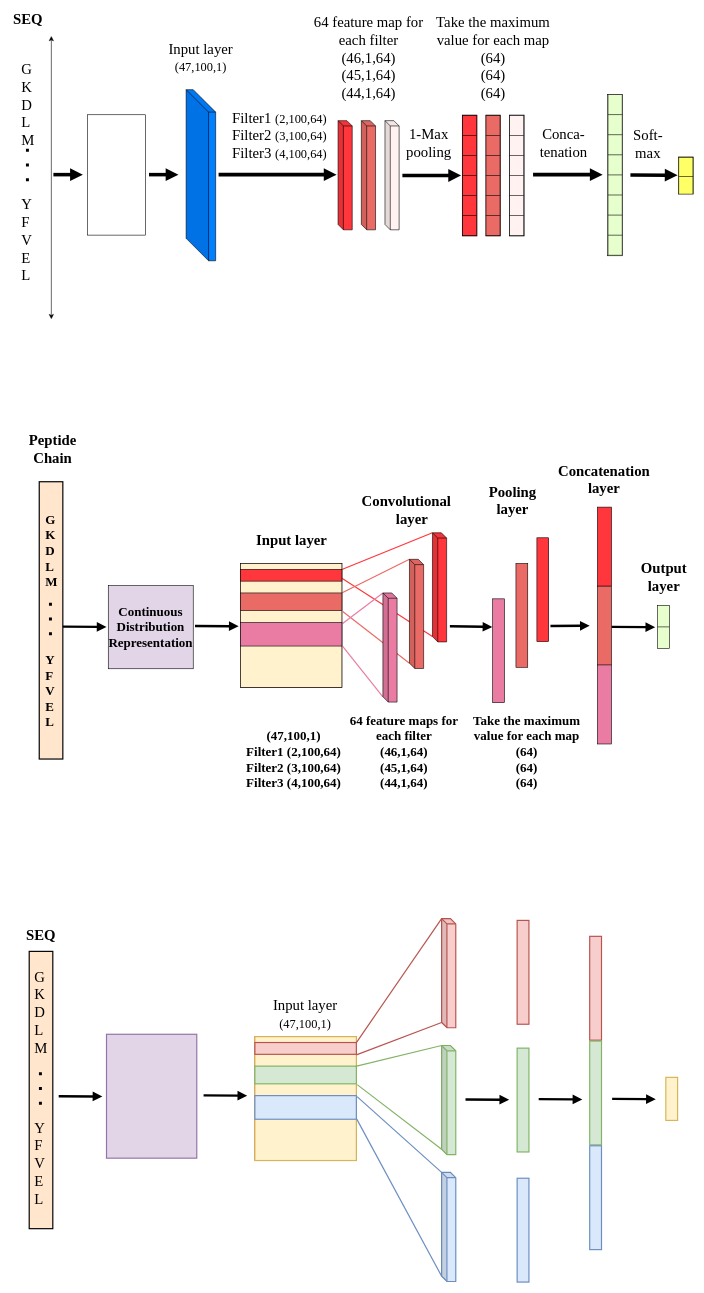
Some shapes in this 704 by 1293 pixel diagram are drawn without their labels. Here are the shapes that lost their labels. From the top down, the centre of each, then its label:
At pixel 116 174: "Contin- uous Distri- buted Repres- entation".
At pixel 151 1095: "Contin uous Distri buted Repres entation".
